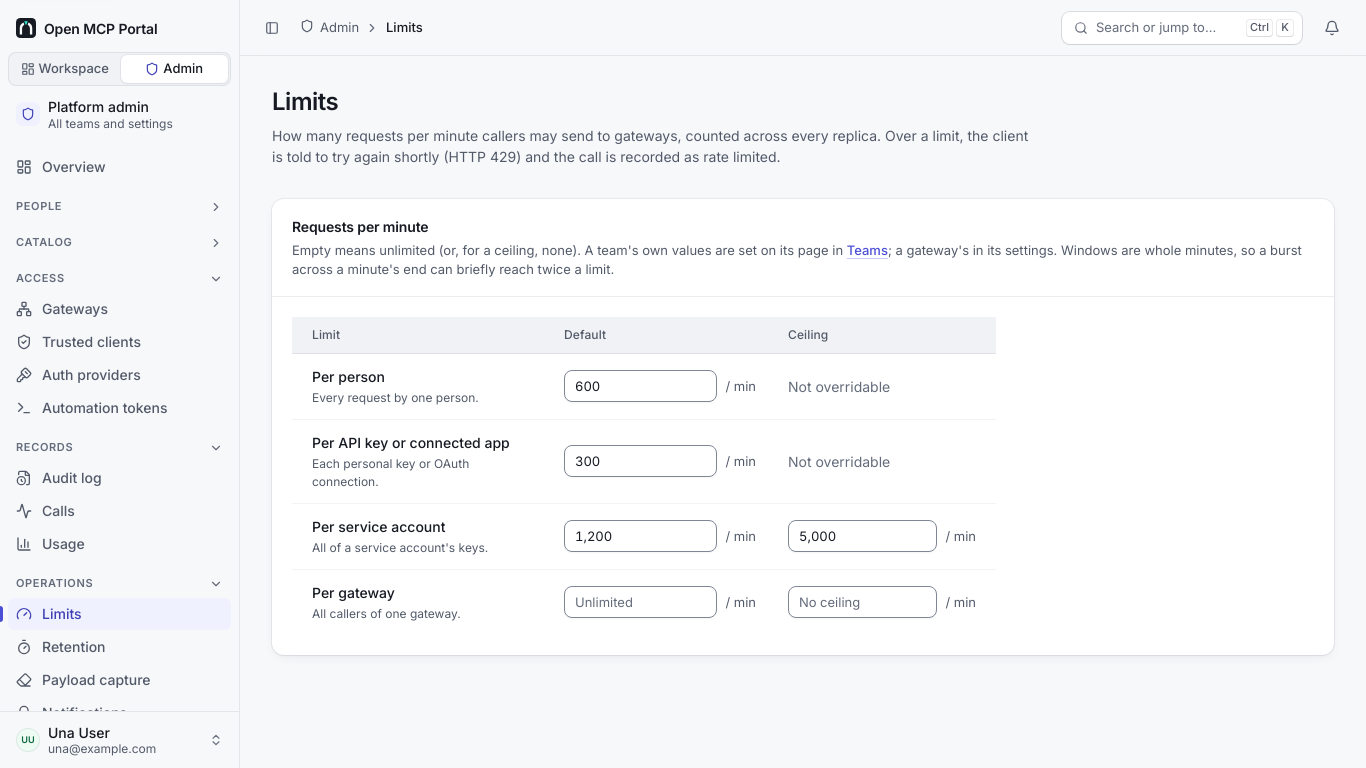
Test: Admin → Limits › shows each limit's default and ceiling and saves the changed ones after confirming (If-Match)
This screenshot has width=1366, height=768.
Expected: the text "Per person" is shown, top-left (312, 368), bottom-right (385, 385)
Expected: the text "Not overridable" is shown 2 times, top-left (788, 378), bottom-right (890, 395); top-left (788, 453), bottom-right (890, 470)
Clear the field labelled "Default for Per person (requests per minute)" at (641,386), box top-left (564, 370), bottom-right (717, 402)
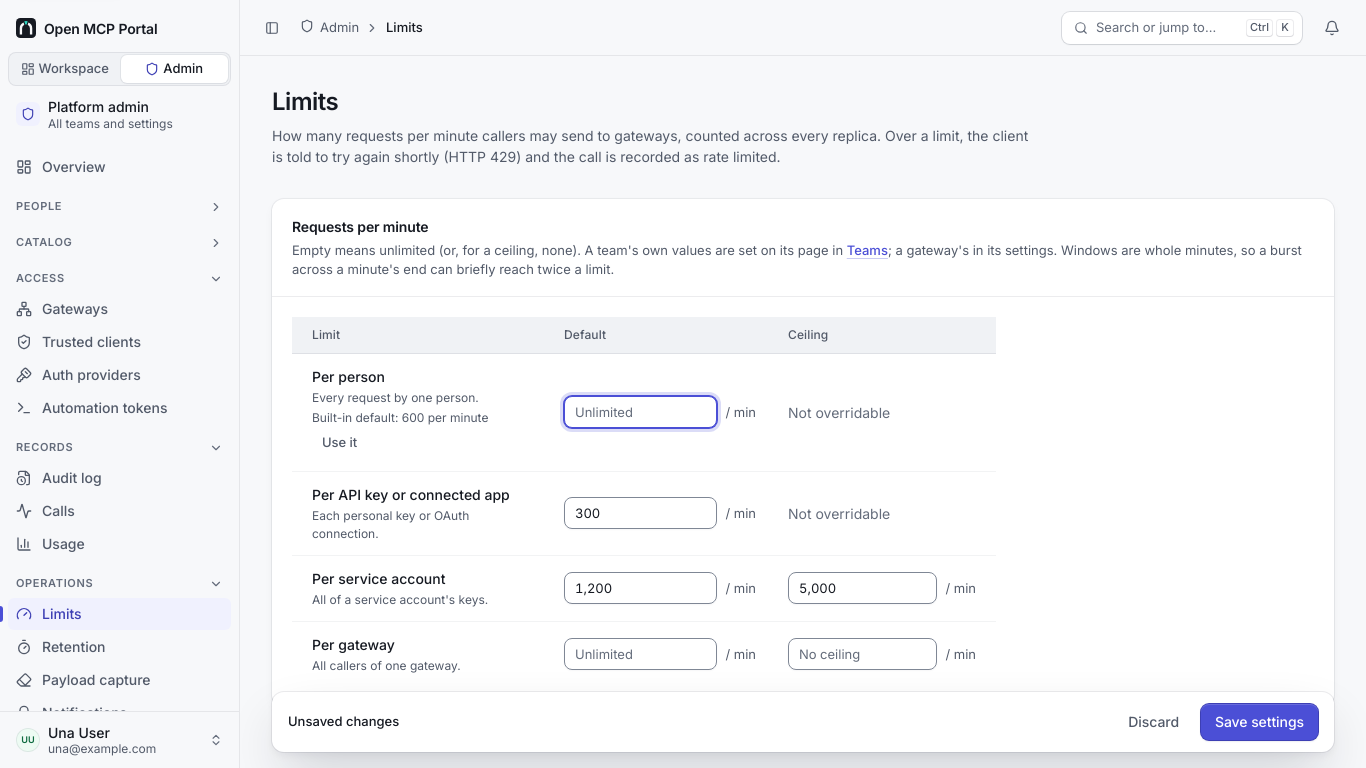
Type "500" into the field labelled "Default for Per person (requests per minute)" at (641,412), box top-left (564, 396), bottom-right (717, 428)
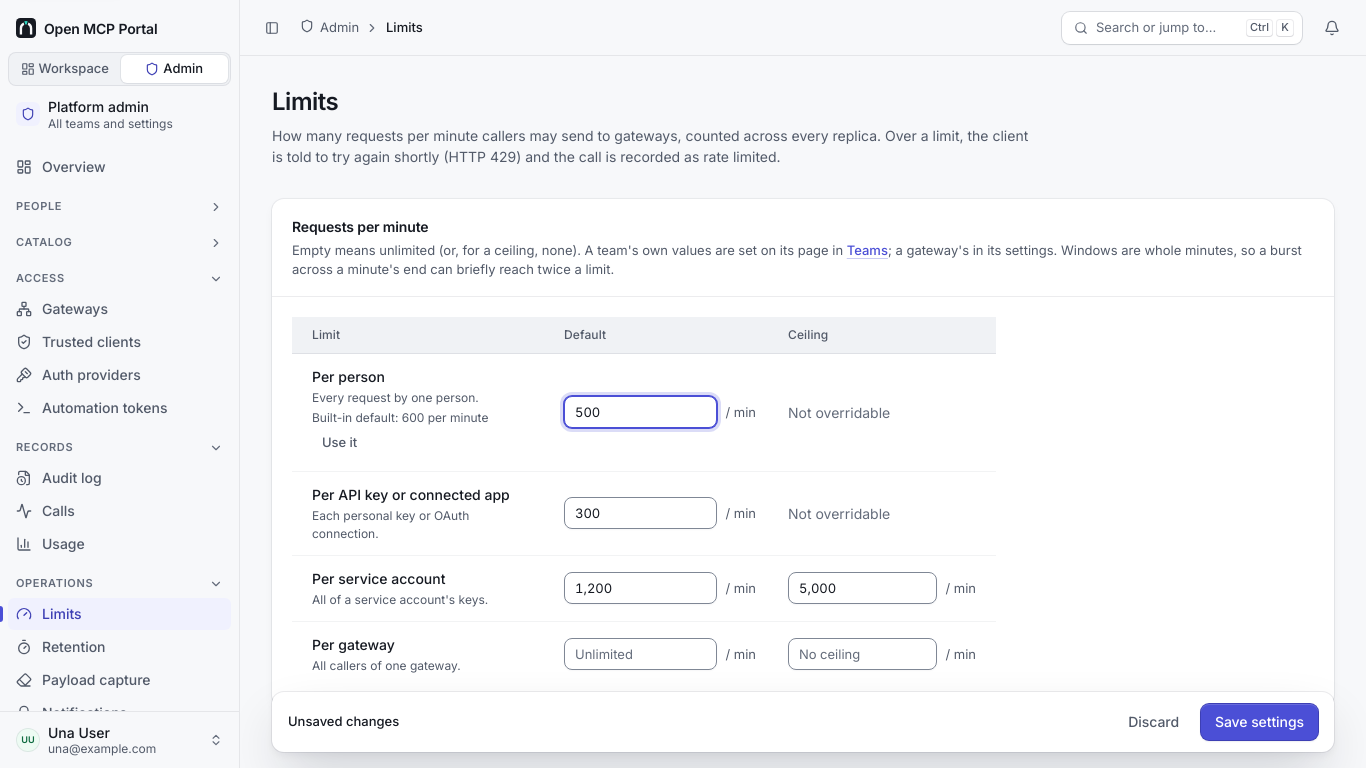
Replace the text in the field labelled "Ceiling for Per service account (requests per minute)" with "4000" at (863,588), box top-left (788, 572), bottom-right (937, 604)
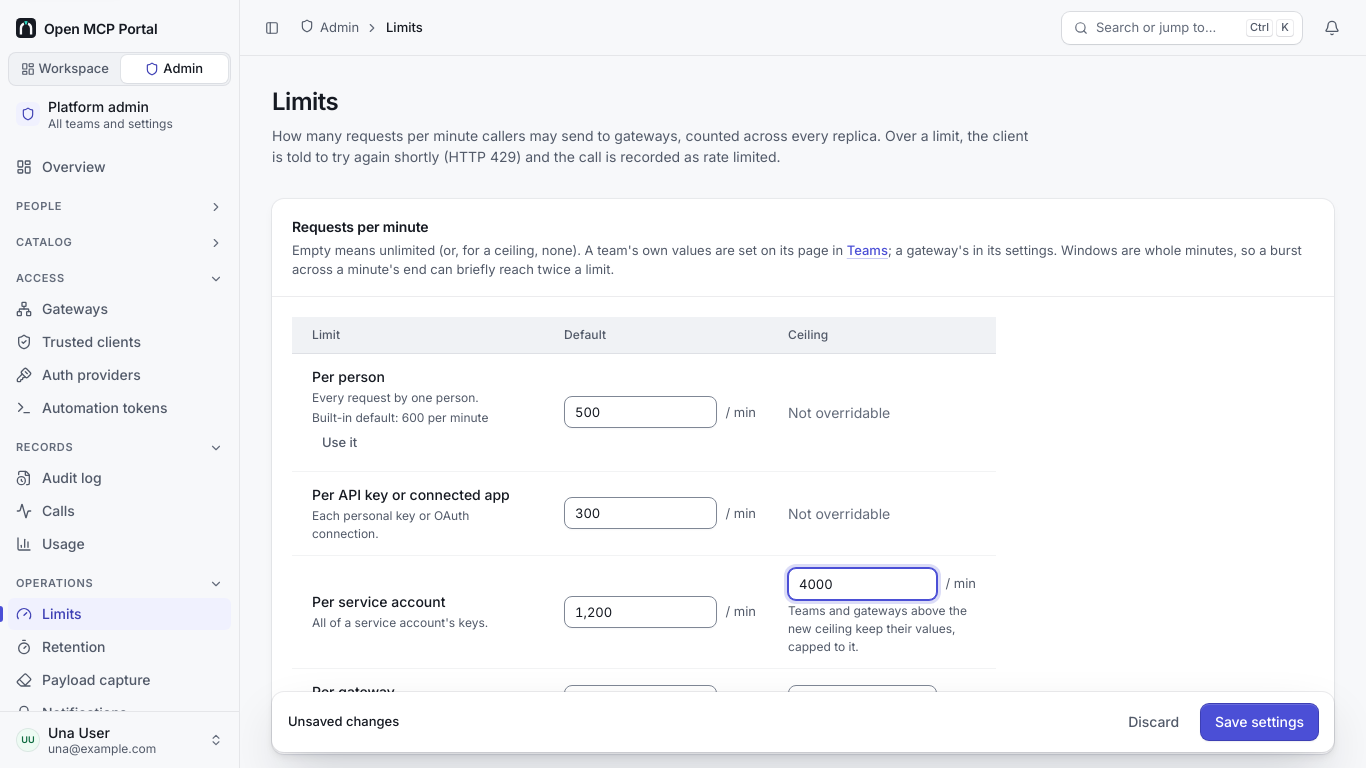
Result: the text "keep their values, capped to it" is shown at top-left (788, 603), bottom-right (967, 654)
Click the button "Save settings" at (1260,722), box top-left (1201, 704), bottom-right (1318, 740)
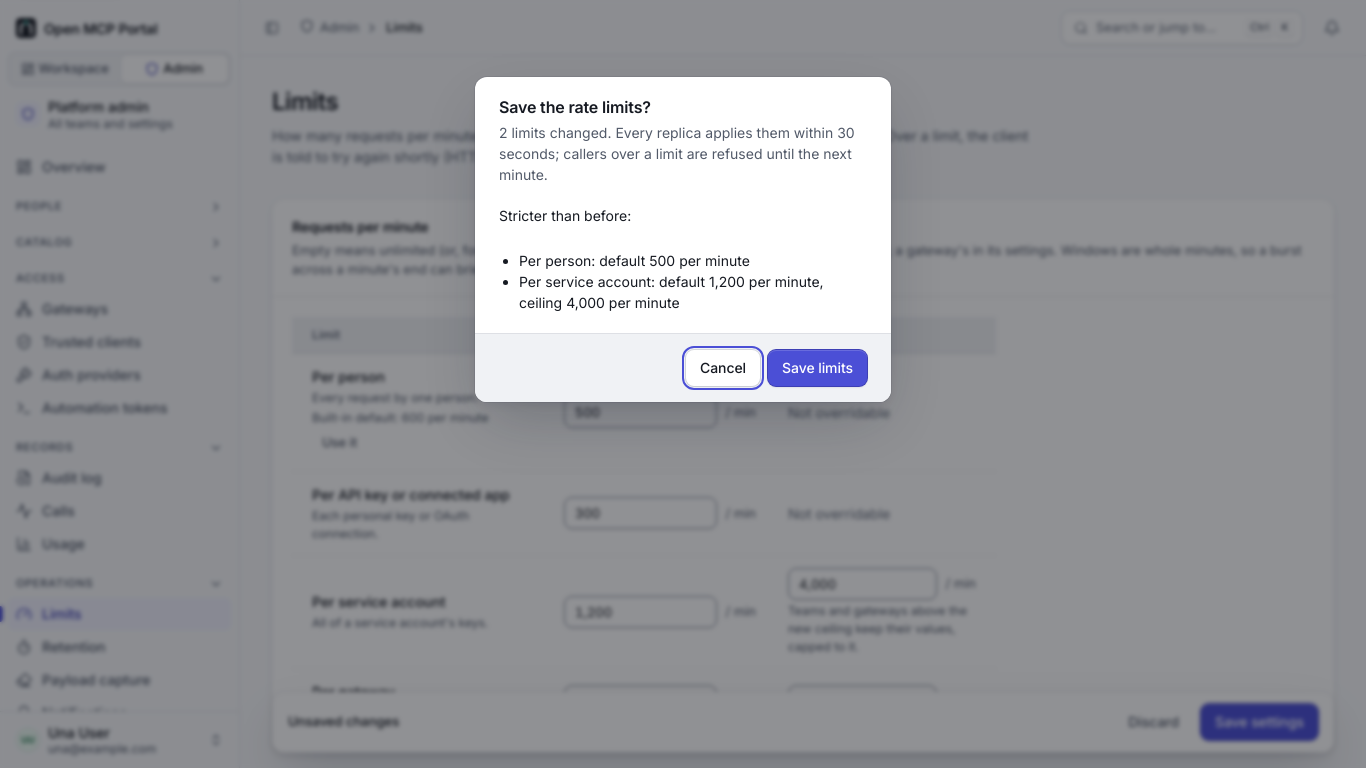
Result: the dialog "Save the rate limits?" shows "2 limits changed" at top-left (499, 124), bottom-right (855, 183)
Result: the dialog "Save the rate limits?" shows "Per person: default 500 per minute" at top-left (519, 252), bottom-right (750, 269)
Result: the dialog "Save the rate limits?" shows "Per service account: default 1,200 per minute, ceiling 4,000 per minute" at top-left (519, 273), bottom-right (824, 311)
Click the button "Save limits" at (818,368), box top-left (768, 350), bottom-right (867, 386)
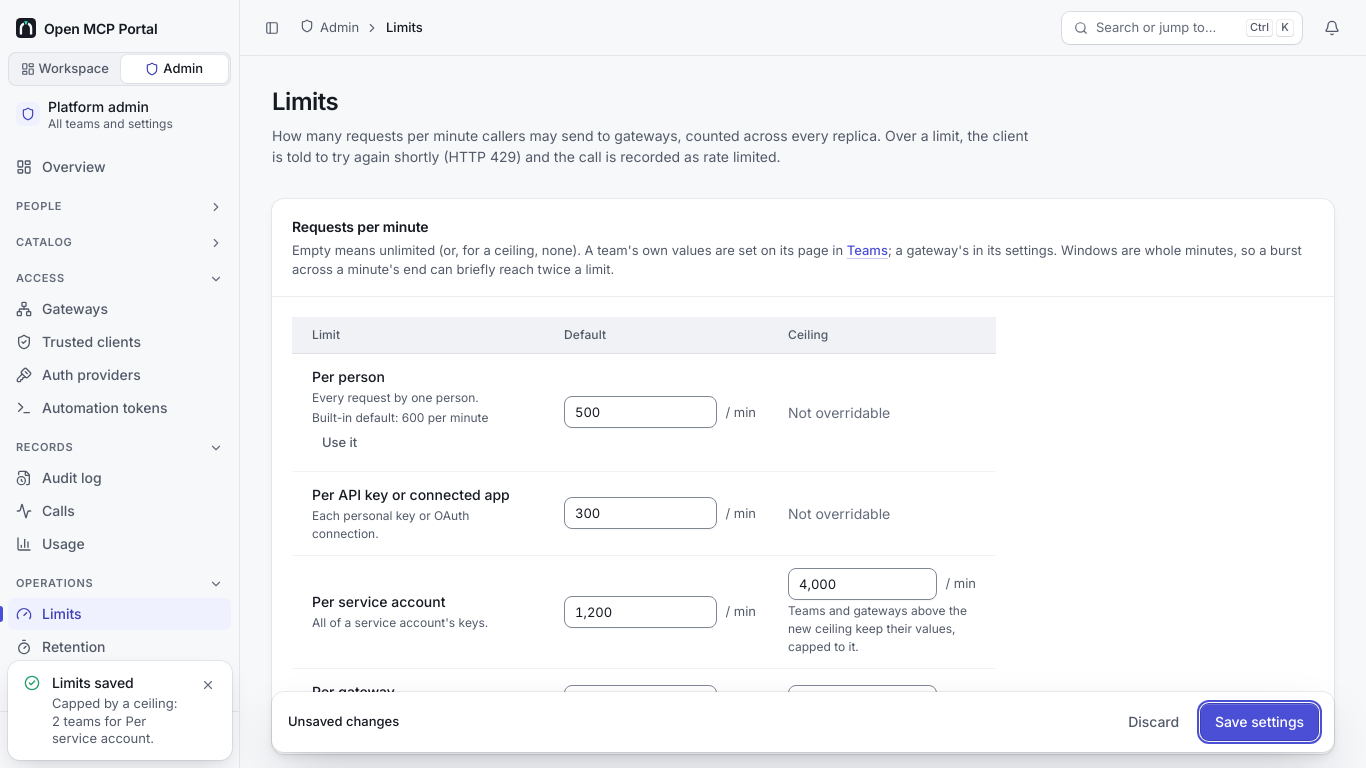
Result: the heading "Limits saved" is shown at top-left (52, 674), bottom-right (134, 691)
Result: the text "Capped by a ceiling: 2 teams for Per service account." is shown at top-left (52, 695), bottom-right (184, 748)
